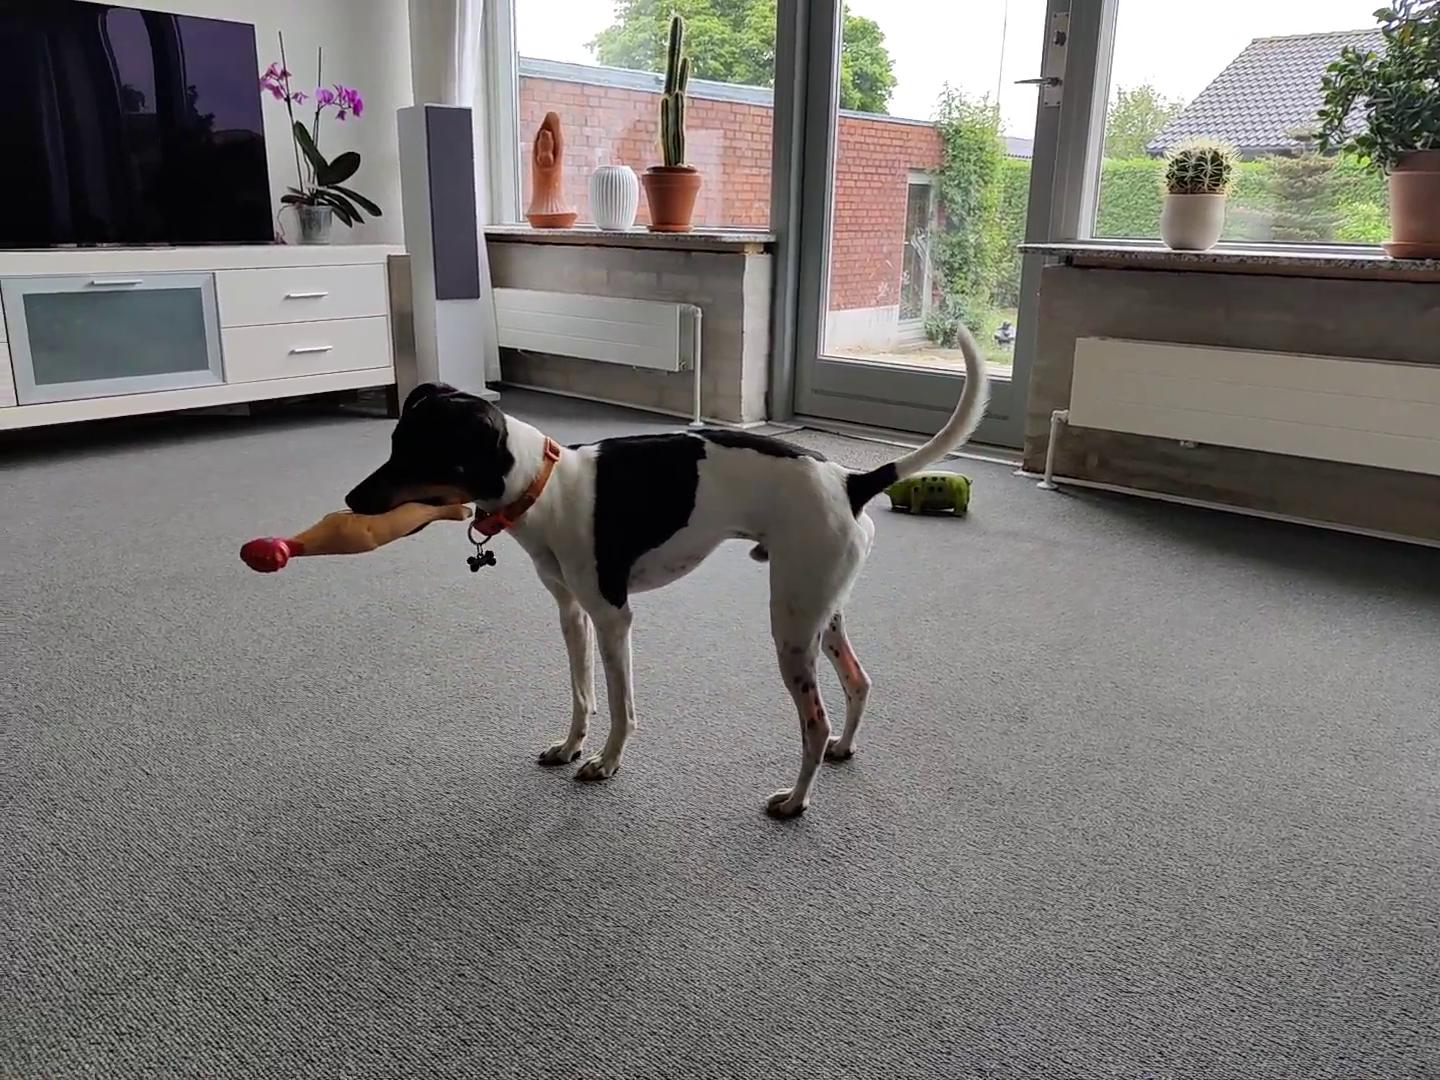Dog: (332, 304, 996, 835)
